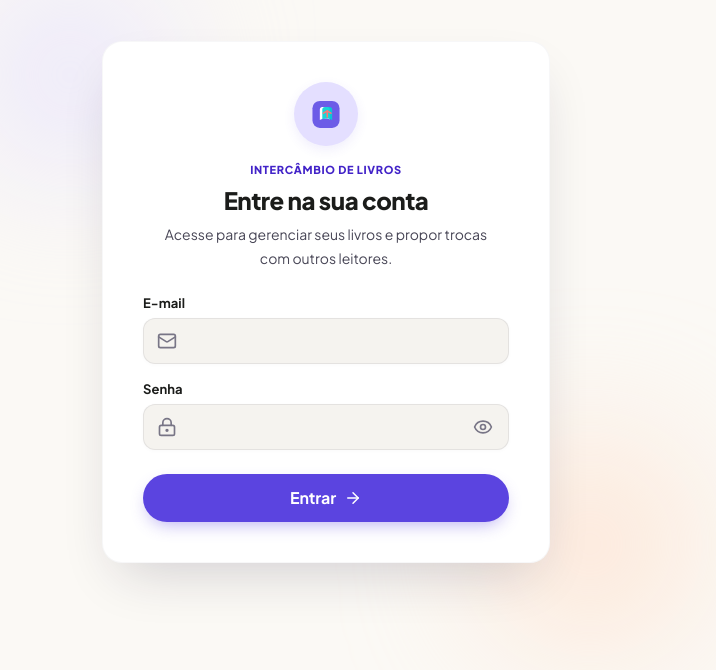
it: LoginPage › valida os campos localmente sem enviar uma requisição
Click the button "Entrar": (326, 498) [143,474,509,522]
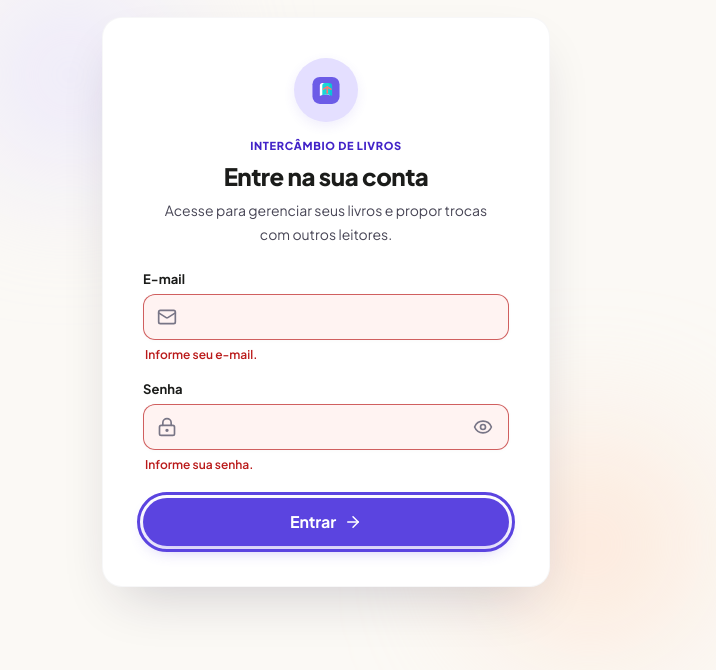
Expected: the text "Informe seu e-mail." is shown, [145,347,257,362]
Expected: the text "Informe sua senha." is shown, [145,457,253,472]
